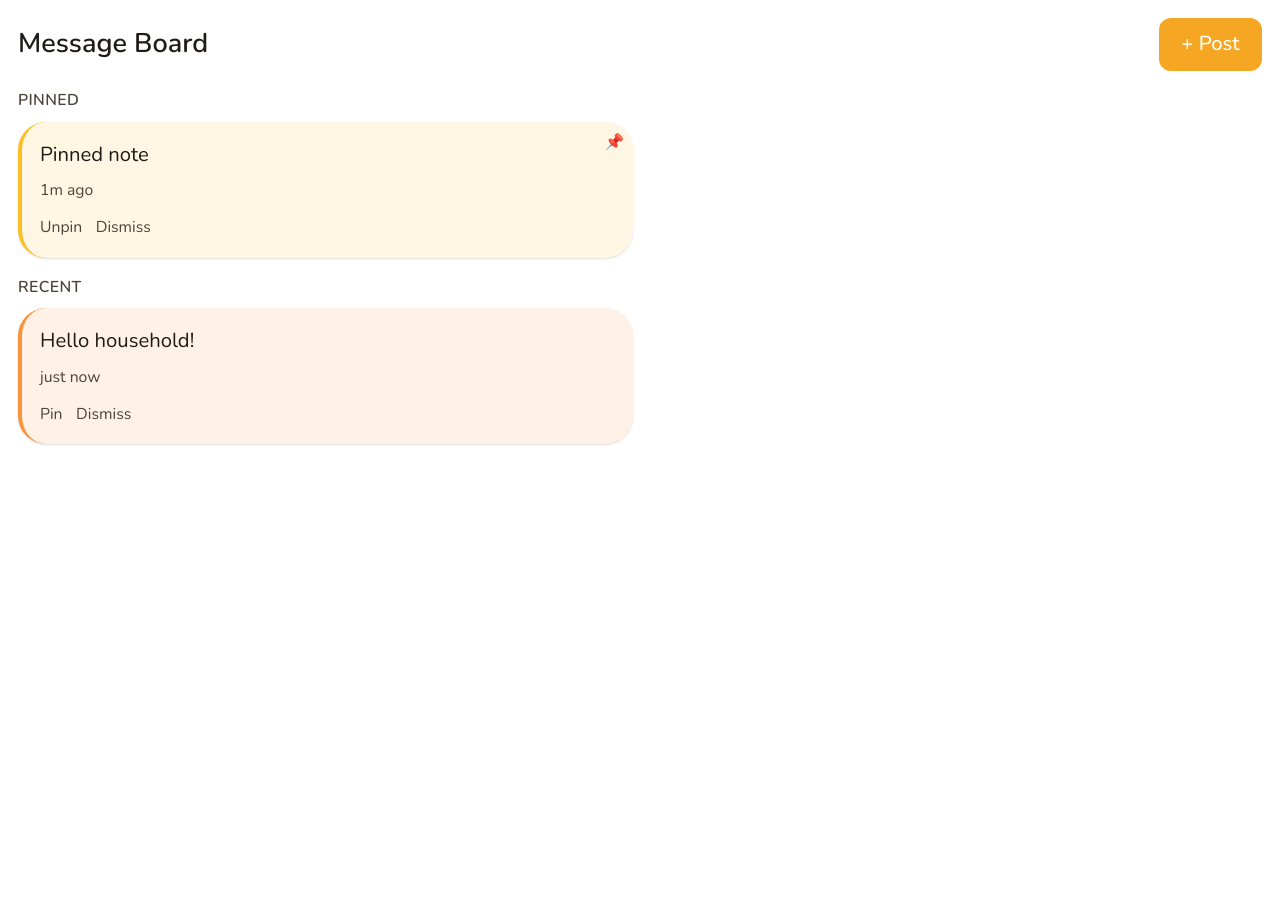
it: MessageBoard › opens compose modal when Post button clicked
expect the text "Hello household!" is shown: met, box x1=40 y1=327 x2=194 y2=354
Click the button "+ Post".
click(1210, 44)  # box x1=1159 y1=18 x2=1262 y2=71
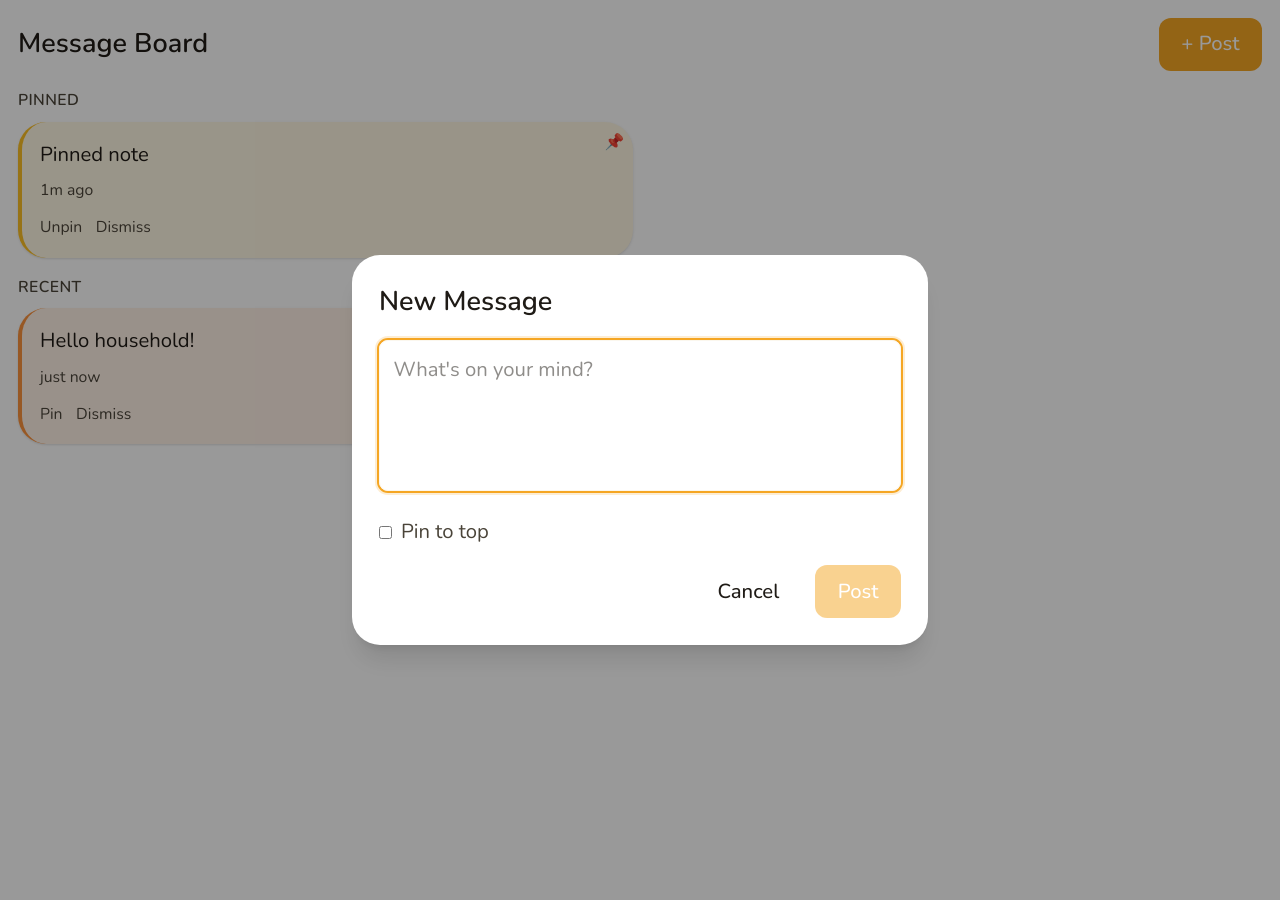
expect the heading "New Message" is shown: met, box x1=379 y1=283 x2=552 y2=320
